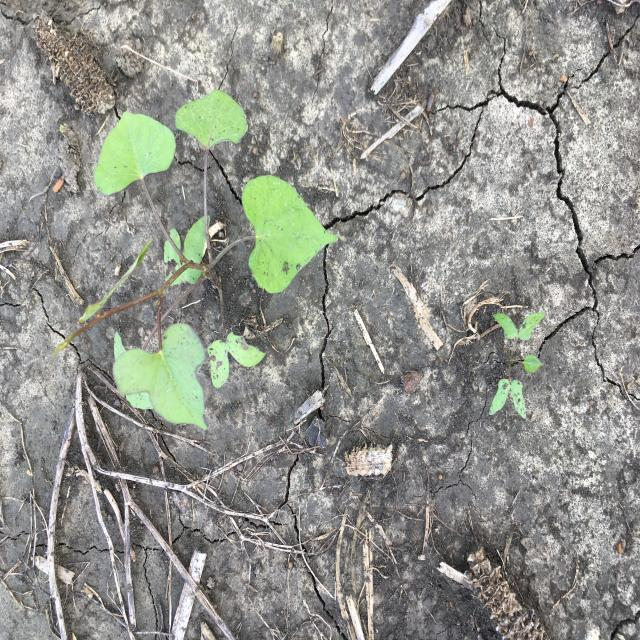MorningGlory: (55, 88, 342, 433), (489, 308, 548, 421)
